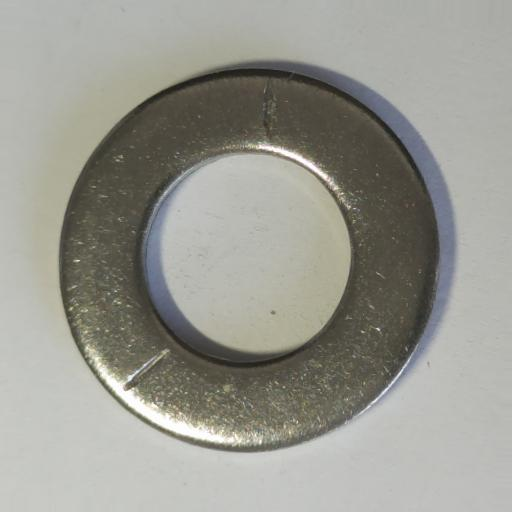scratch: (119, 348, 171, 392), (260, 75, 280, 142)
